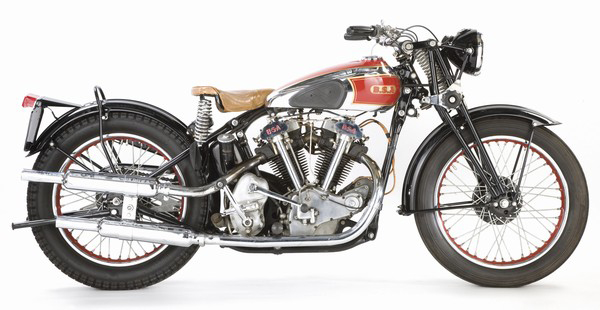motorcycle: (11, 22, 590, 290)
